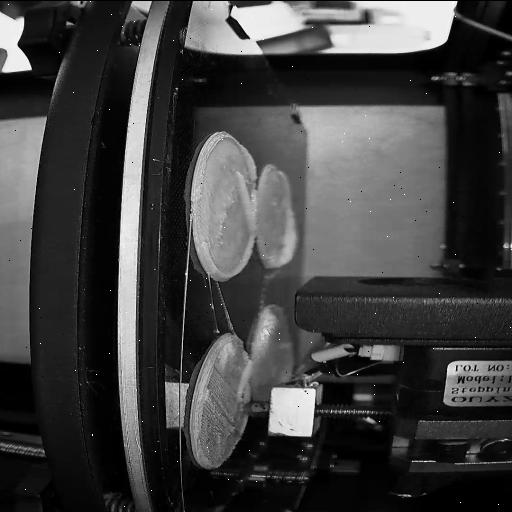over_extrusion: (202, 234, 257, 278), (232, 142, 256, 230), (270, 208, 299, 268), (238, 358, 252, 398)
